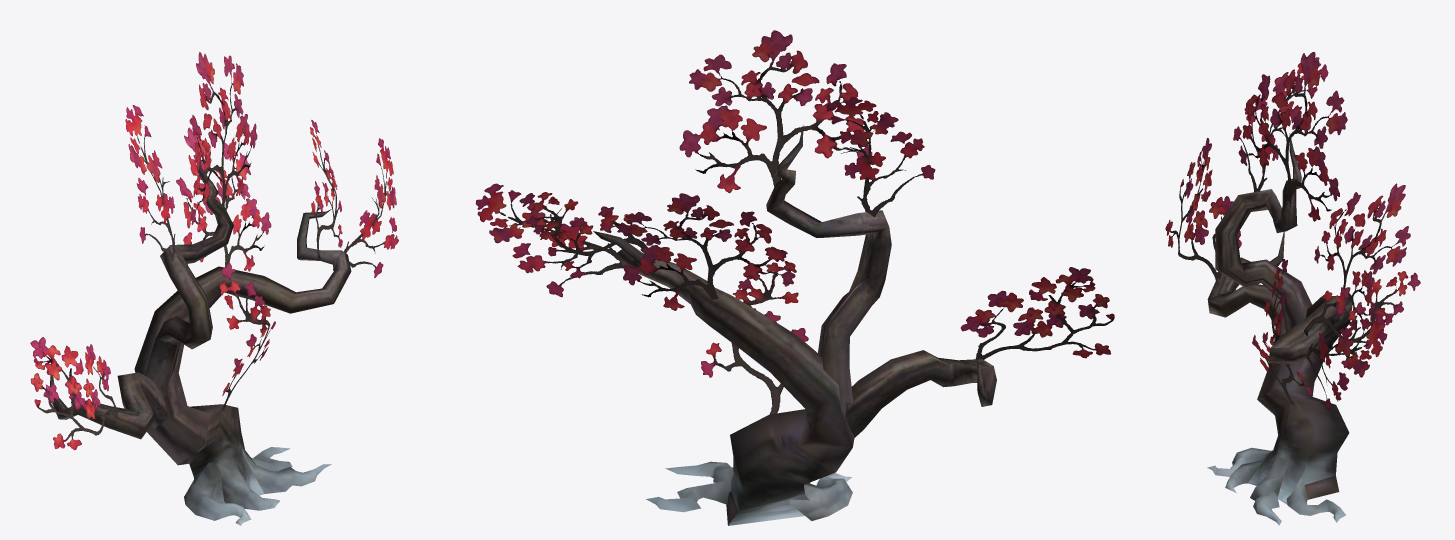
File: cj_xinshou_shu02_55_49_9353out.fbx
3 views of the same model, side by side, from view 1: azimuth 30°, elevation 25°; view 2: azimuth 150°, elevation 25°; view 3: azimuth 270°, elevation 25° (orthographic). The views are drawn at different scales.
Visible parts, largest first — view 1: cj_xinshou_shu02; view 2: cj_xinshou_shu02; view 3: cj_xinshou_shu02.
Boxes of the visible parts, x1=… form: cj_xinshou_shu02: x1=30, y1=52, x2=398, y2=525; cj_xinshou_shu02: x1=475, y1=30, x2=1114, y2=525; cj_xinshou_shu02: x1=1165, y1=52, x2=1420, y2=525.
Bounding box in the file's own units: 5.12 × 4.44 × 2.58.
